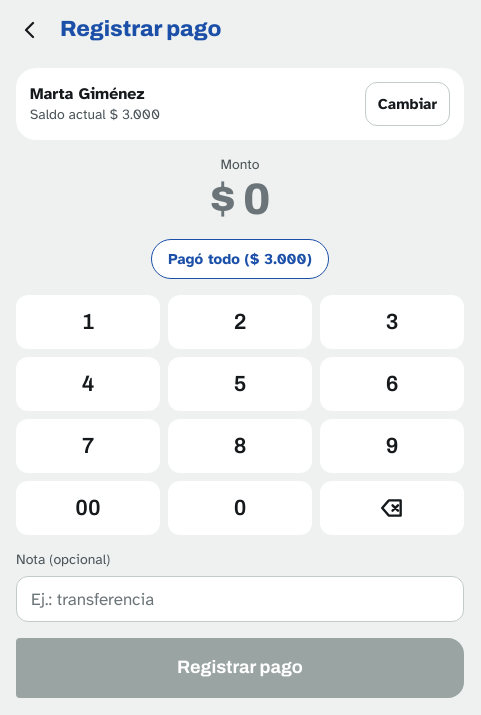
Scenario: Registrar pago › "Pagó todo" carga el saldo completo en azul
Expected: the heading "Registrar pago" is shown, [60,16,222,44]
Click the button "Pagó todo ($ 3.000)".
click(240, 259)  # box [151,239,329,279]
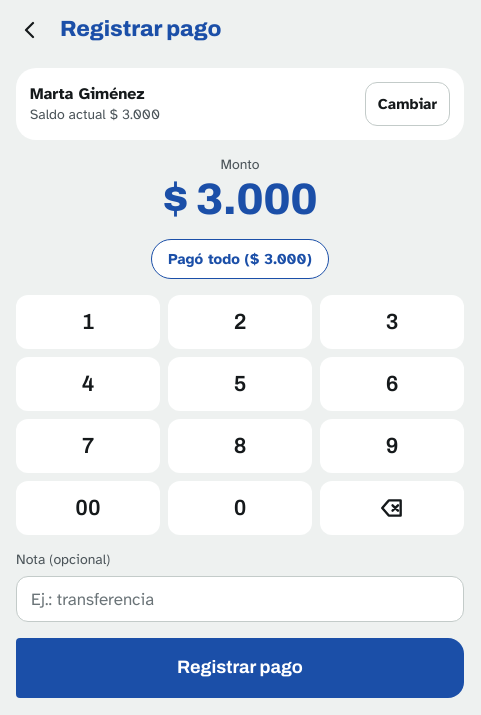
Now the text "$ 3.000" is shown, box [163,175,317,223]
